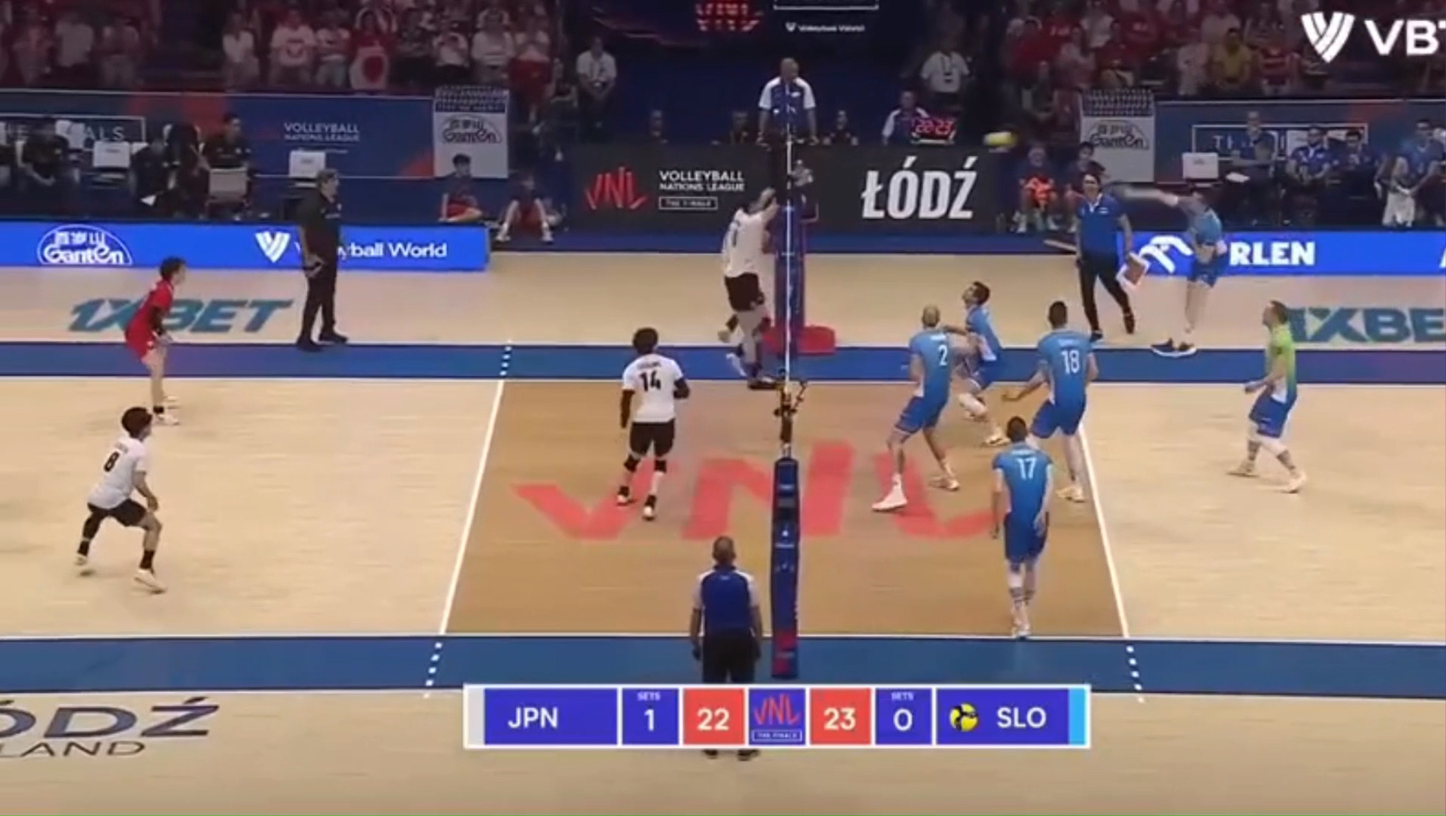ball: (984, 131, 1015, 147)
player: (871, 305, 958, 512), (1009, 301, 1096, 502), (1130, 187, 1228, 357), (1231, 301, 1305, 493), (992, 416, 1053, 639), (944, 281, 1006, 445)
player 1: (76, 407, 164, 592), (615, 327, 691, 519), (124, 256, 187, 423), (735, 190, 777, 384), (717, 205, 751, 342)
referee: (689, 536, 762, 684), (1075, 172, 1135, 340), (756, 58, 817, 218), (296, 168, 348, 351)
